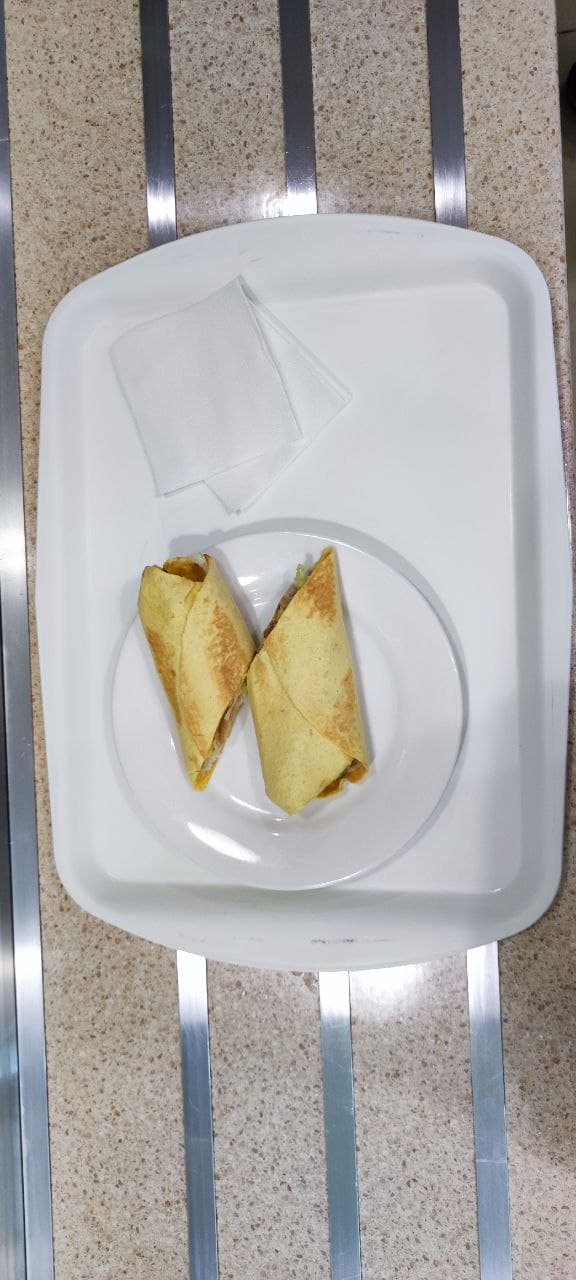Кесадилья с курицей: (123, 547, 376, 811)
Поднос: (34, 211, 573, 972)
Салфетки: (107, 287, 340, 516)
Тарелка: (105, 533, 463, 891)
